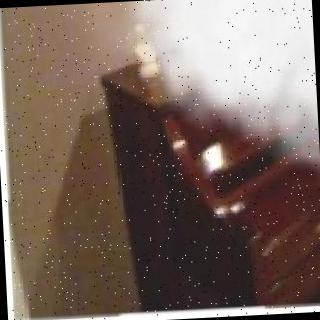smoke: (121, 0, 320, 170)
